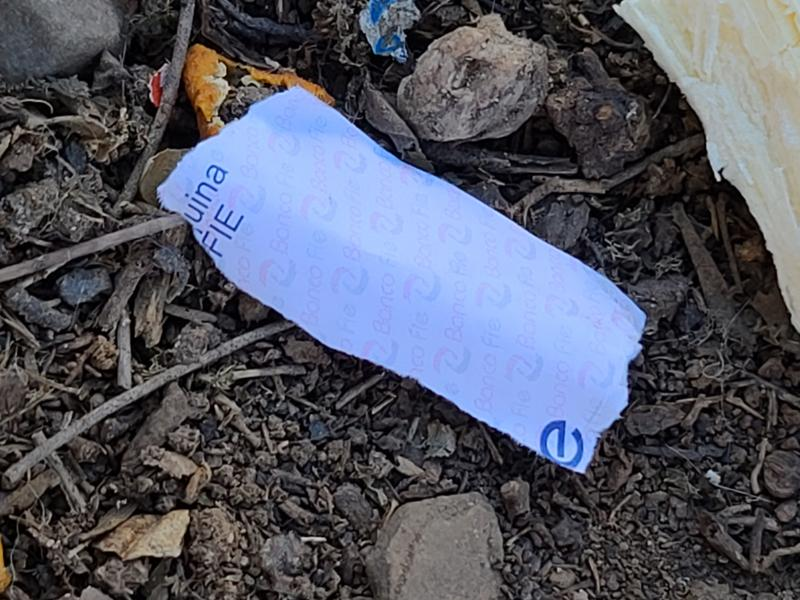papel: (155, 87, 647, 475)
